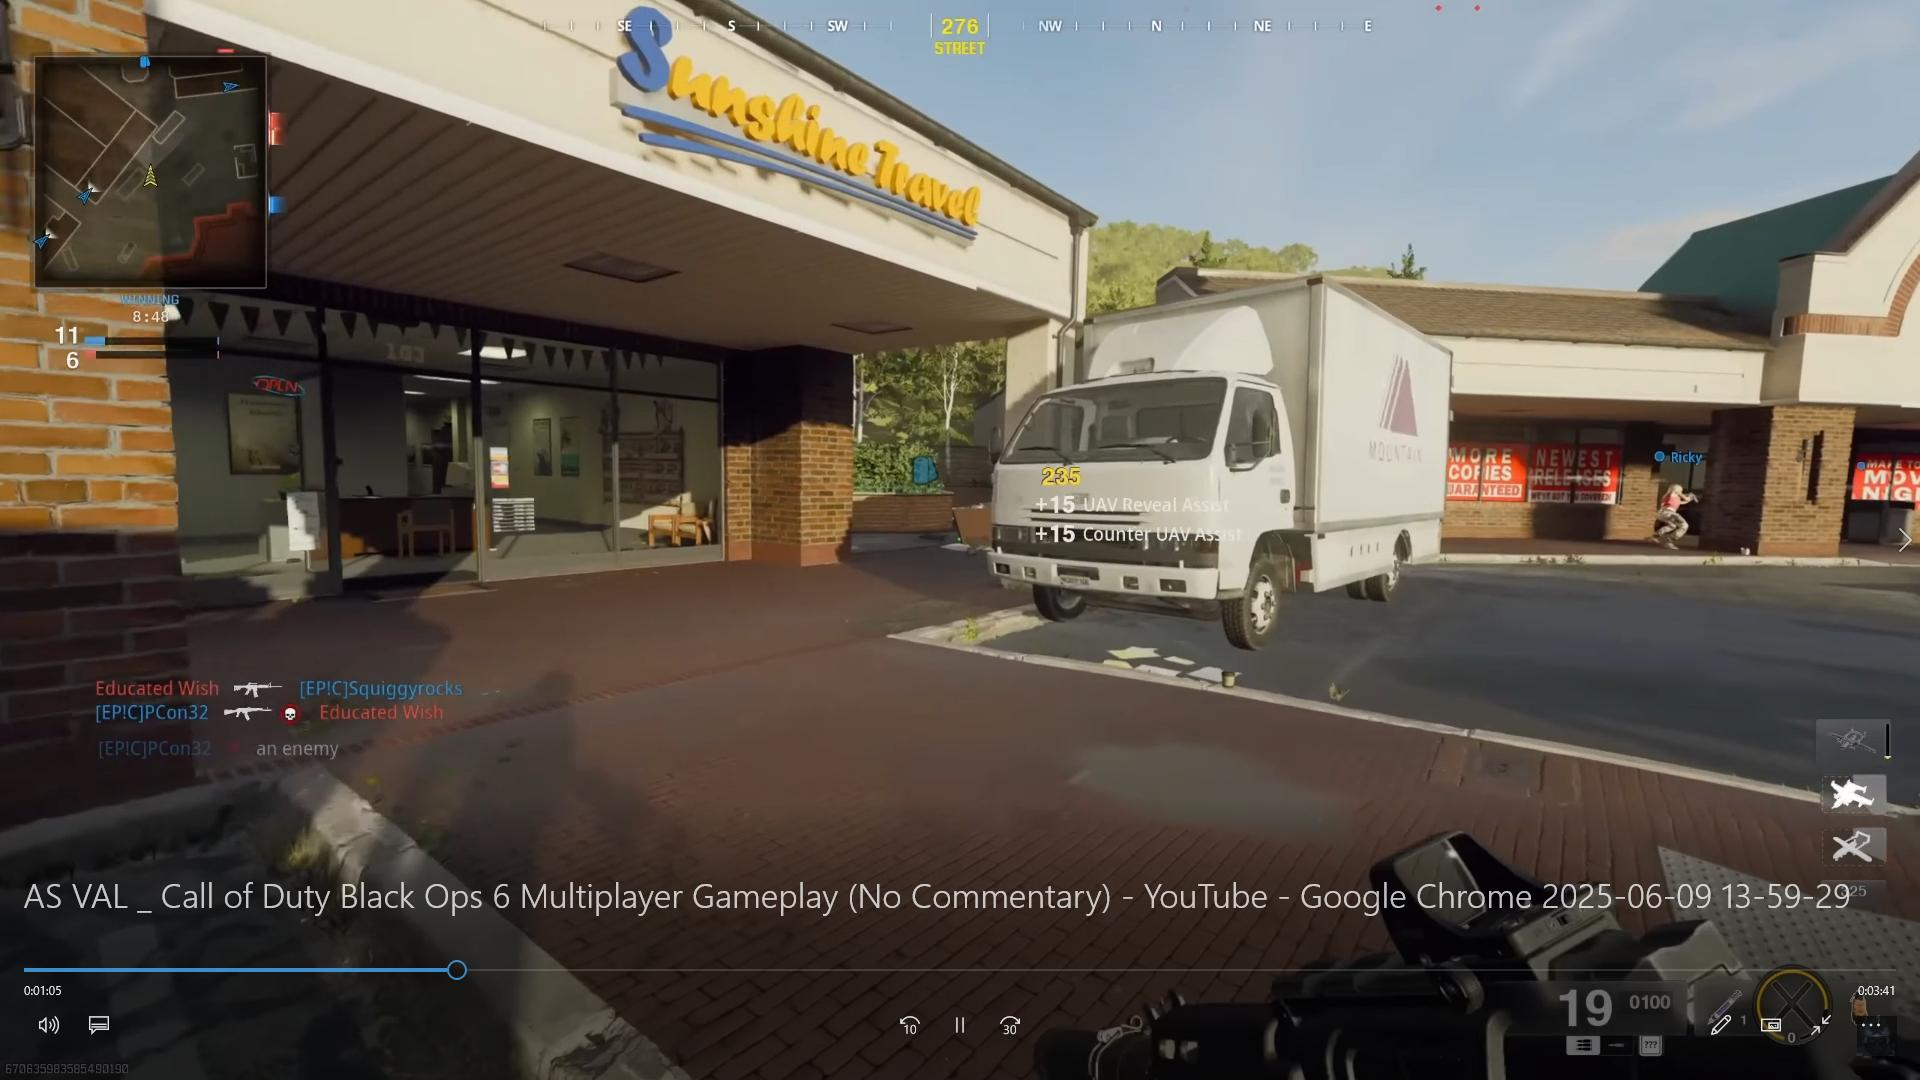Enemy: (1652, 476, 1695, 549)
